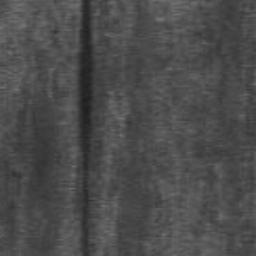Scratches: (79, 0, 92, 256)
